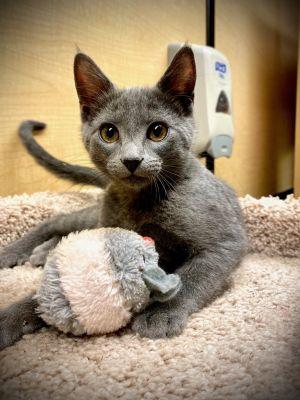rblue: (54, 27, 223, 216)
